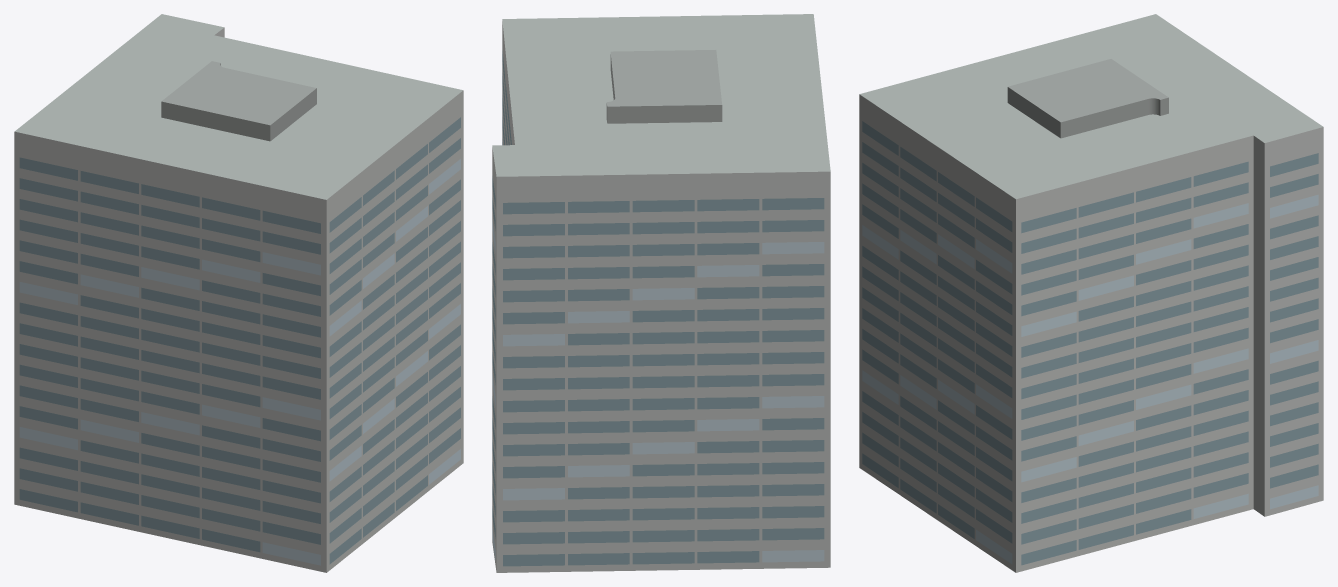
Rendered from named-apt-51019853-026b-415d-bf5d-ae9b2bd5dc60.glb.
3 views of the same model, side by side, from view 1: azimuth 30°, elevation 25°; view 2: azimuth 150°, elevation 25°; view 3: azimuth 270°, elevation 25° (orthographic). The views are drawn at different scales.
Parts seen in each view (by area): view 1: named-apt-51019853-026b-415d-bf5d-ae9b2bd5dc60; view 2: named-apt-51019853-026b-415d-bf5d-ae9b2bd5dc60; view 3: named-apt-51019853-026b-415d-bf5d-ae9b2bd5dc60.
Boxes of the visible parts, bbox=[...] form: named-apt-51019853-026b-415d-bf5d-ae9b2bd5dc60: bbox=[14, 14, 463, 572]; named-apt-51019853-026b-415d-bf5d-ae9b2bd5dc60: bbox=[492, 14, 830, 572]; named-apt-51019853-026b-415d-bf5d-ae9b2bd5dc60: bbox=[859, 14, 1323, 572].
Size of the model in its own units: 59.14 by 58 by 62.62.
